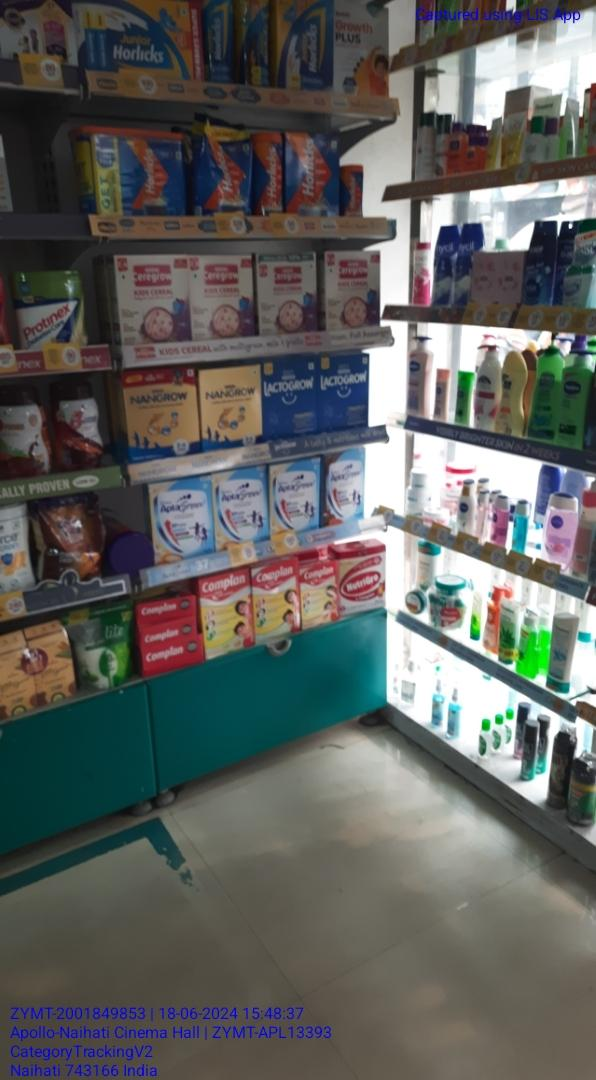BOURN_VITA_FIVE_STAR_MAGIC_750_G_POUCH: (36, 500, 106, 576)
COMPLAN_KESAR_BADAM_500_GMS_PACK: (202, 572, 248, 648), (254, 563, 296, 634)
COMPLAN_PISTA_BADAM_500_GMS_PACK: (301, 568, 335, 623)
HORLICKS_JUNIOR_VANILLA_500_GM_JAR: (204, 1, 234, 83)
HORLICK_CLASSIC_MALT_200_G_JAR: (342, 166, 362, 216)
HORLICK_CLASSIC_MALT_500_G_JAR: (255, 133, 284, 212)
HORLICK_CLASSIC_MALT_500_G_PACK: (287, 132, 339, 215)
HORLICK_CLASSIC_MALT_750_G_POUCH: (197, 124, 253, 213)
HORLICK_MALT_1_KG_CONTAINER: (85, 128, 187, 216)
